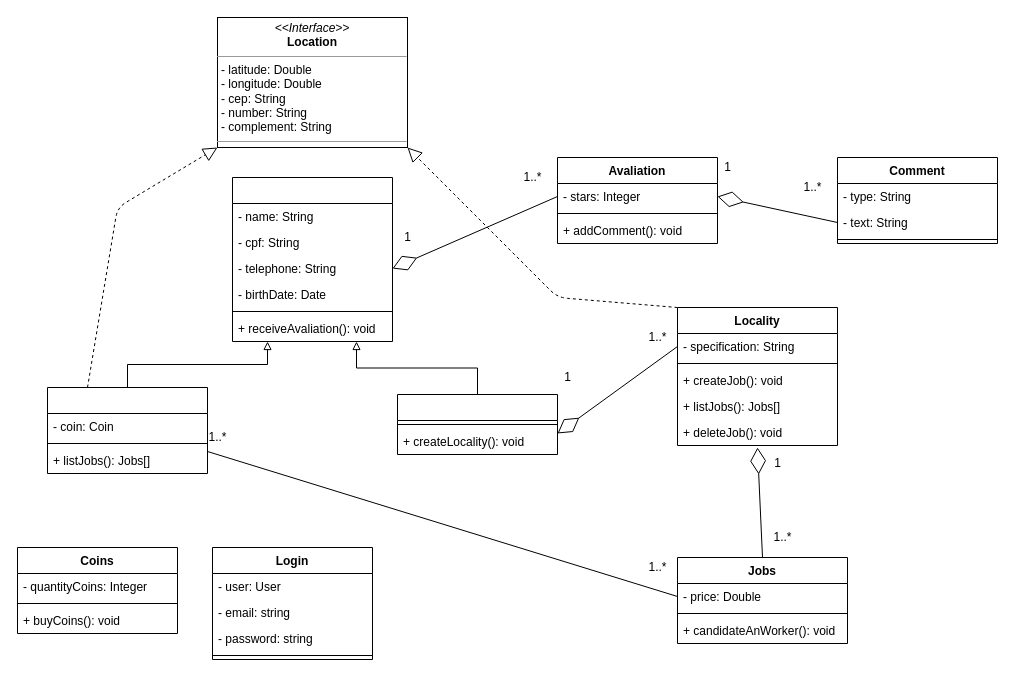
Image size: 1015x677. Some labels were removed from this diagram. The box of each missing label's shape, as (x1, y1, x2, y2) in pixels:
Contractor: (396, 394, 558, 454)
User: (232, 176, 392, 342)
Worker: (46, 386, 208, 474)
